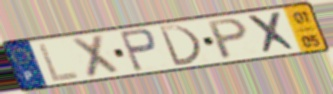D: (156, 23, 204, 68)
L: (35, 41, 82, 84)
P: (206, 16, 250, 62), (117, 27, 159, 74)
X: (68, 32, 123, 80), (244, 10, 301, 56)
